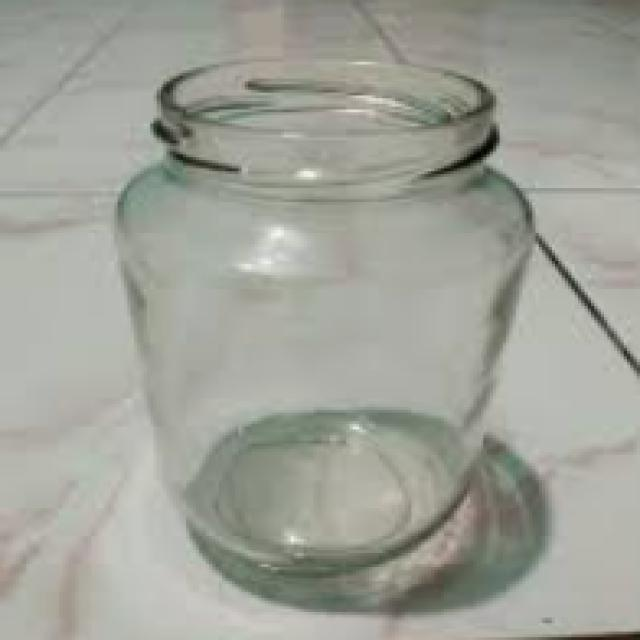ToplesKaca: (108, 53, 545, 609)
